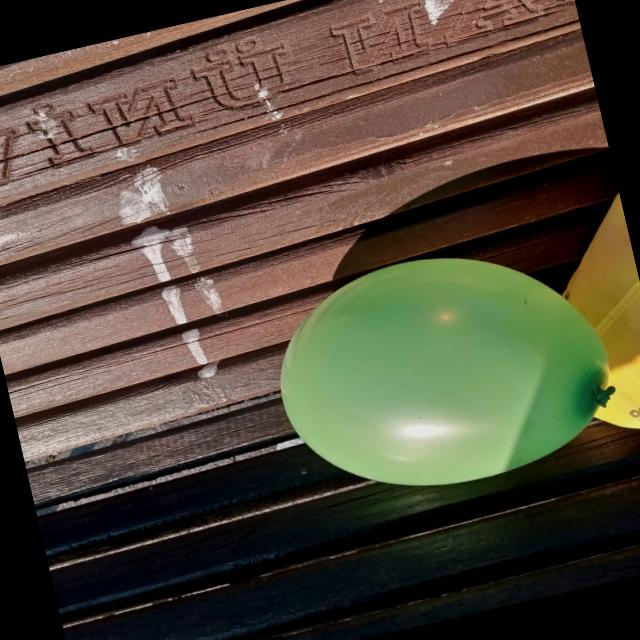balloon: (280, 258, 614, 484)
